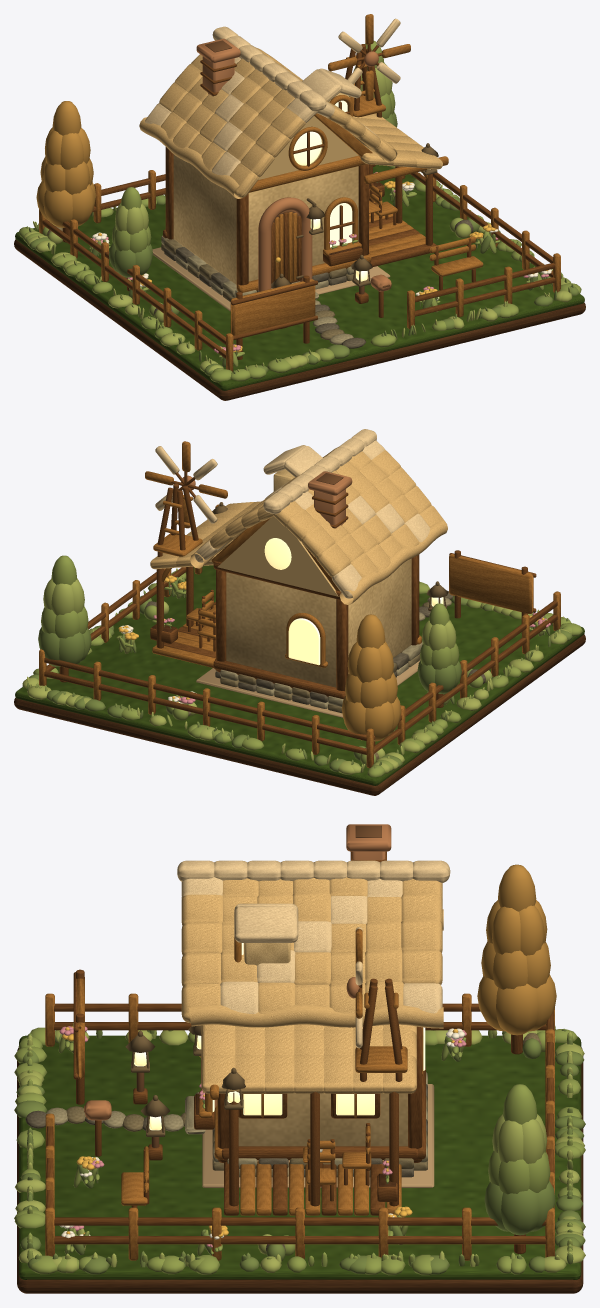
The model's file is cozy-house.glb.
3 views of the same model, one above another, from view 1: azimuth 30°, elevation 25°; view 2: azimuth 150°, elevation 25°; view 3: azimuth 270°, elevation 25° (orthographic). The views are drawn at different scales.
Parts seen in each view (by area): view 1: Surface_Moss lawn, Surface_Honey wood, Surface_Golden end grain, Surface_Felt cream, Surface_Warm lime plaster, Surface_Foliage 1, Surface_Ochre earth, Surface_Felt highlight, Surface_Foliage 3, Surface_Foliage 2, Surface_Terracotta, Surface_Foliage 0 (+6 smaller); view 2: Surface_Moss lawn, Surface_Honey wood, Surface_Warm lime plaster, Surface_Felt cream, Surface_Golden end grain, Surface_Foliage 1, Surface_Ochre earth, Surface_Felt highlight, Surface_Foliage 2, Surface_Foliage 3, Surface_Foliage 0, Surface_Warm window (+5 smaller); view 3: Surface_Moss lawn, Surface_Felt cream, Surface_Honey wood, Surface_Golden end grain, Surface_Felt highlight, Surface_Foliage 1, Surface_Foliage 3, Surface_Foliage 0, Surface_Ochre earth, Surface_Foliage 2, Surface_Warm lime plaster, Surface_Warm window (+8 smaller).
Part boxes in pixels (x1,y1,x2,y2): Surface_Moss lawn: (15,165,584,390); Surface_Honey wood: (42,44,555,359); Surface_Golden end grain: (39,55,560,371); Surface_Felt cream: (139,40,442,198); Surface_Warm lime plaster: (173,93,358,284); Surface_Foliage 1: (19,41,581,382); Surface_Ochre earth: (14,181,585,400); Surface_Felt highlight: (145,26,379,175); Surface_Foliage 3: (36,101,96,227); Surface_Foliage 2: (23,63,572,375); Surface_Terracotta: (196,38,391,291); Surface_Foliage 0: (26,112,579,375); Surface_Moss lawn: (15,565,584,785); Surface_Honey wood: (44,483,557,754); Surface_Warm lime plaster: (217,469,411,687); Surface_Felt cream: (150,447,447,605); Surface_Golden end grain: (39,494,560,768); Surface_Foliage 1: (33,555,582,777); Surface_Ochre earth: (14,624,585,795); Surface_Felt highlight: (194,429,430,598); Surface_Foliage 2: (22,568,571,774); Surface_Foliage 3: (341,614,401,741); Surface_Foliage 0: (26,577,572,772); Surface_Warm window: (264,538,443,665); Surface_Moss lawn: (19,1035,581,1279); Surface_Felt cream: (181,877,443,1093); Surface_Honey wood: (47,851,553,1253); Surface_Golden end grain: (45,937,554,1260); Surface_Felt highlight: (177,860,450,1013); Surface_Foliage 1: (14,1027,585,1275); Surface_Foliage 3: (477,864,556,1035); Surface_Foliage 0: (14,1026,585,1274); Surface_Ochre earth: (17,1047,583,1293); Surface_Foliage 2: (15,1023,585,1273); Surface_Warm lime plaster: (238,943,407,1146); Surface_Warm window: (134,943,425,1130).
Bounding box in the file's own units: 9.53 × 5.68 × 9.49.
Materials: 22 (10 with a texture image).
